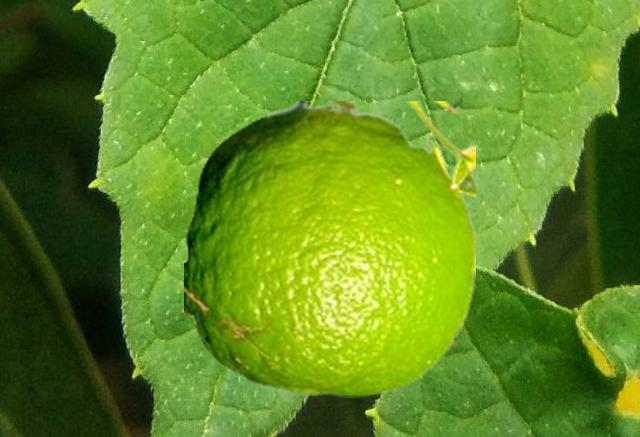dalandan: (184, 101, 474, 396)
